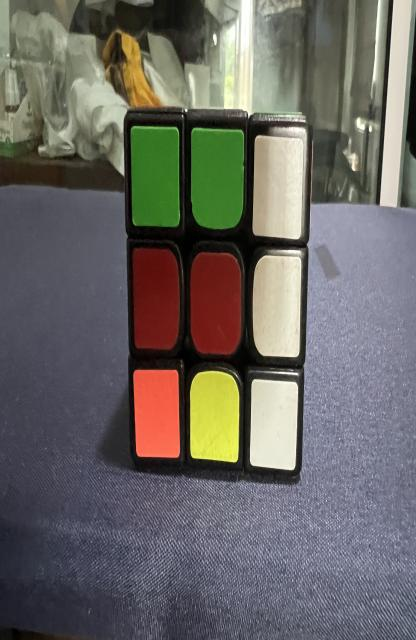Green: (191, 128, 245, 230), (131, 127, 180, 227)
Orange: (133, 370, 180, 458)
Red: (190, 252, 241, 355), (132, 247, 180, 350)
White: (253, 135, 304, 240), (253, 255, 301, 357), (249, 378, 298, 470)
Yellow: (190, 370, 240, 463)
